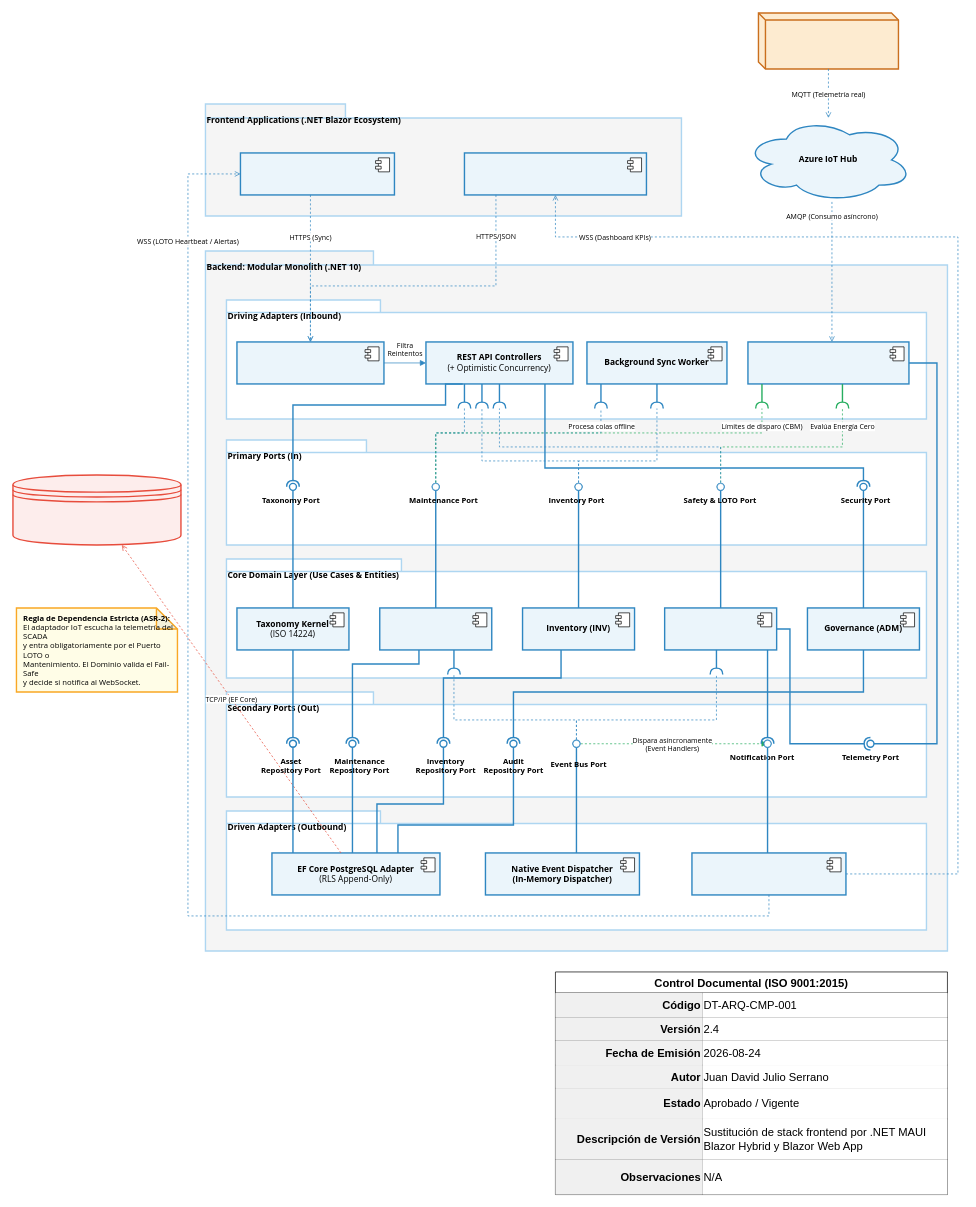
Some shapes in this 976 by 1207 pixel diagram are drawn without their labels. The centre of each missing label's shape, as x and y in pixels:
Azure IoT Hub Adapter (Telemetry Listener): (x=828, y=362)
Digital Twin (VIS): (x=720, y=628)
Idempotency Filter (Redis/Memory Cache): (x=310, y=362)
Maintenance (MTTO) + RIME Calculator: (x=435, y=628)
Mobile App (.NET MAUI Blazor Hybrid): (x=317, y=173)
PostgreSQL & TimescaleDB: (x=96, y=509)
SCADA (Edge Node): (x=828, y=40)
SignalR Broadcaster: (x=768, y=873)
Web Admin Portal (Blazor Web App): (x=555, y=173)
